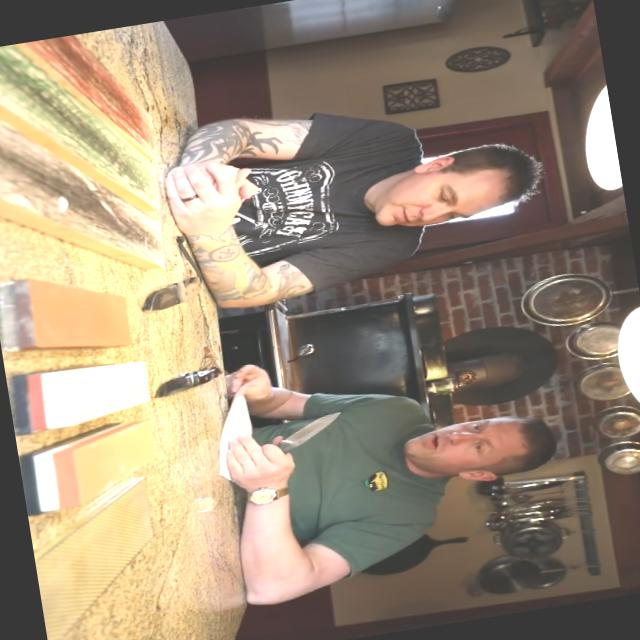knife: (218, 400, 368, 487)
